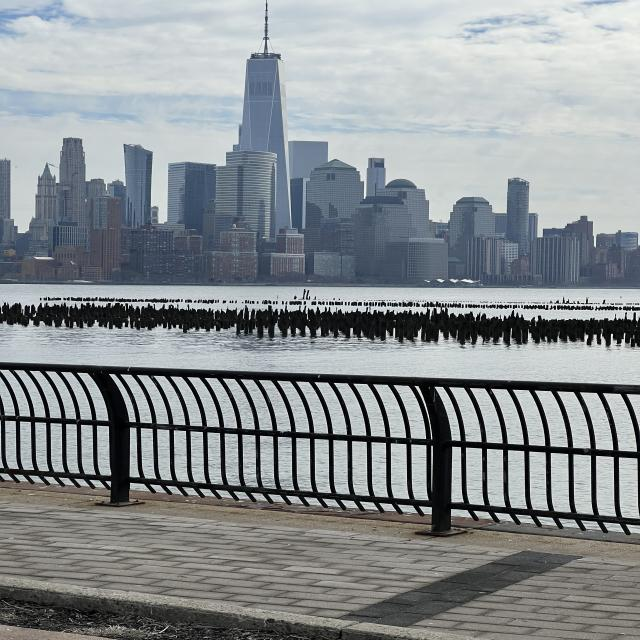WTC: (240, 2, 288, 152)
